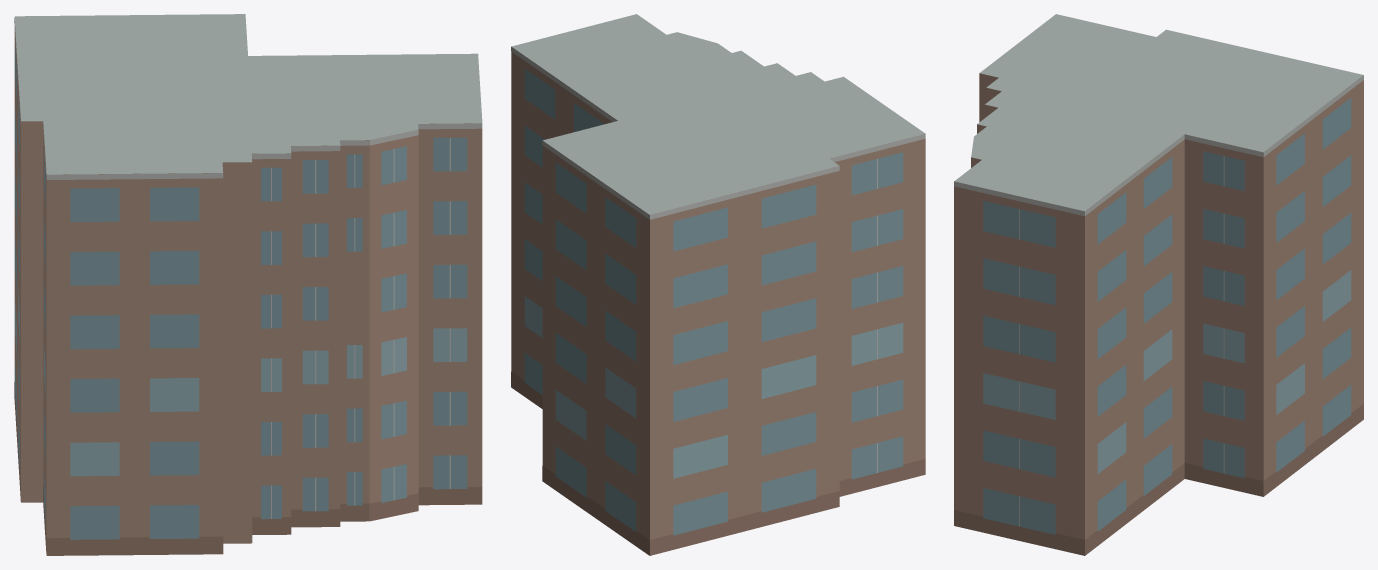
Rendered from survey-upis-32666944.glb.
The picture shows the model from 3 angles, left to right: view 1: azimuth 30°, elevation 25°; view 2: azimuth 150°, elevation 25°; view 3: azimuth 270°, elevation 25°; orthographic projection. The views are drawn at different scales.
Visible parts, largest first — view 1: survey-upis-32666944.tmp; view 2: survey-upis-32666944.tmp; view 3: survey-upis-32666944.tmp.
Boxes of the visible parts, x1,y1,x2,y2 form: survey-upis-32666944.tmp: [14, 14, 482, 555]; survey-upis-32666944.tmp: [511, 14, 925, 555]; survey-upis-32666944.tmp: [954, 14, 1363, 555].
Size of the model in its own units: 20.89 by 17 by 18.33.
